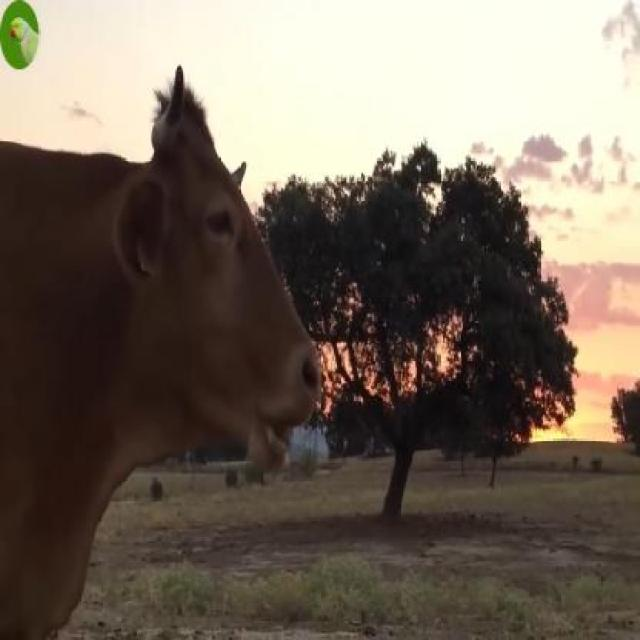Cow: (0, 63, 320, 639)
